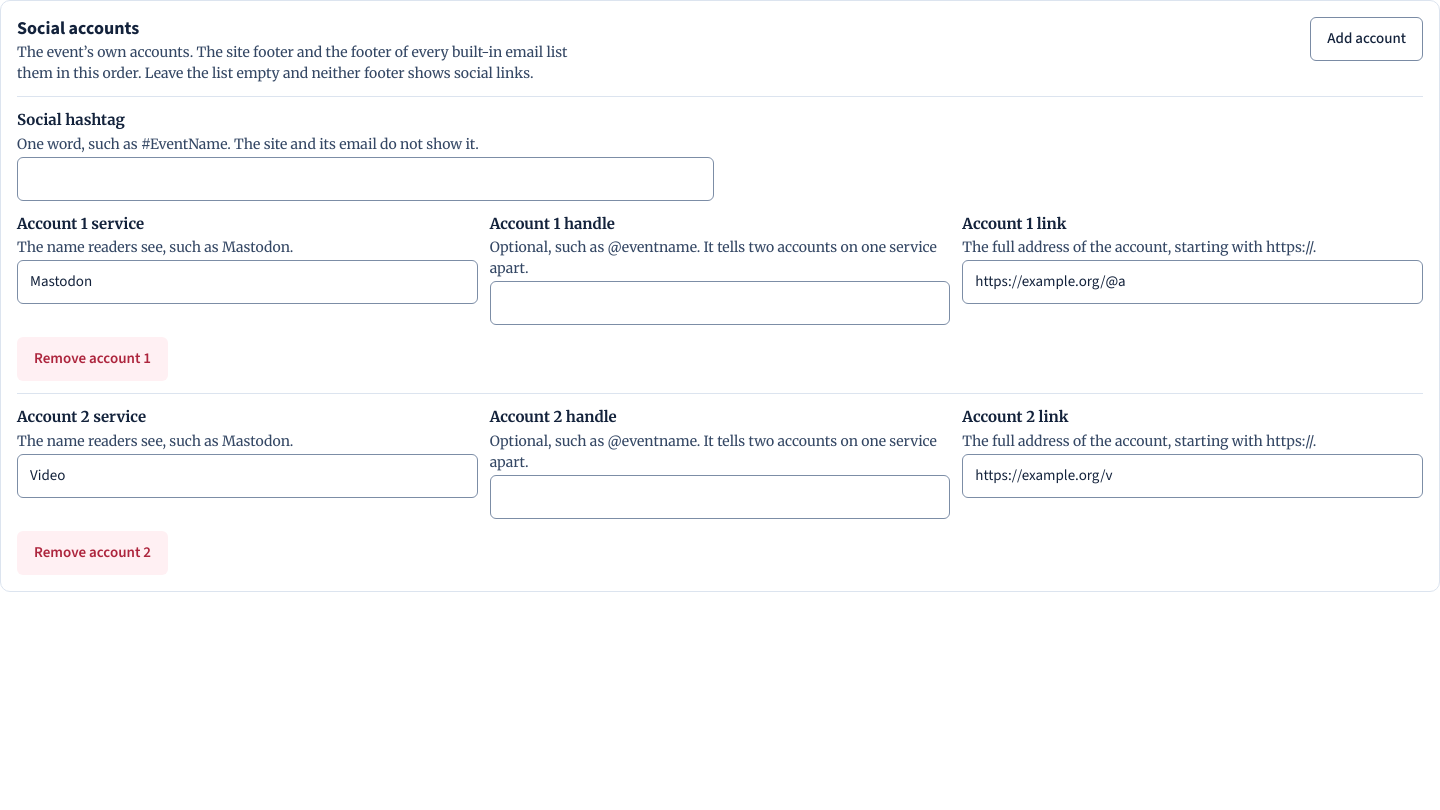
Test: SocialHandlesEditor › removes an account and moves focus to a control that still exists
The width and height of the screenshot is (1440, 810).
Click the button "Remove account 2" at [92, 553], box [17, 531, 168, 575]
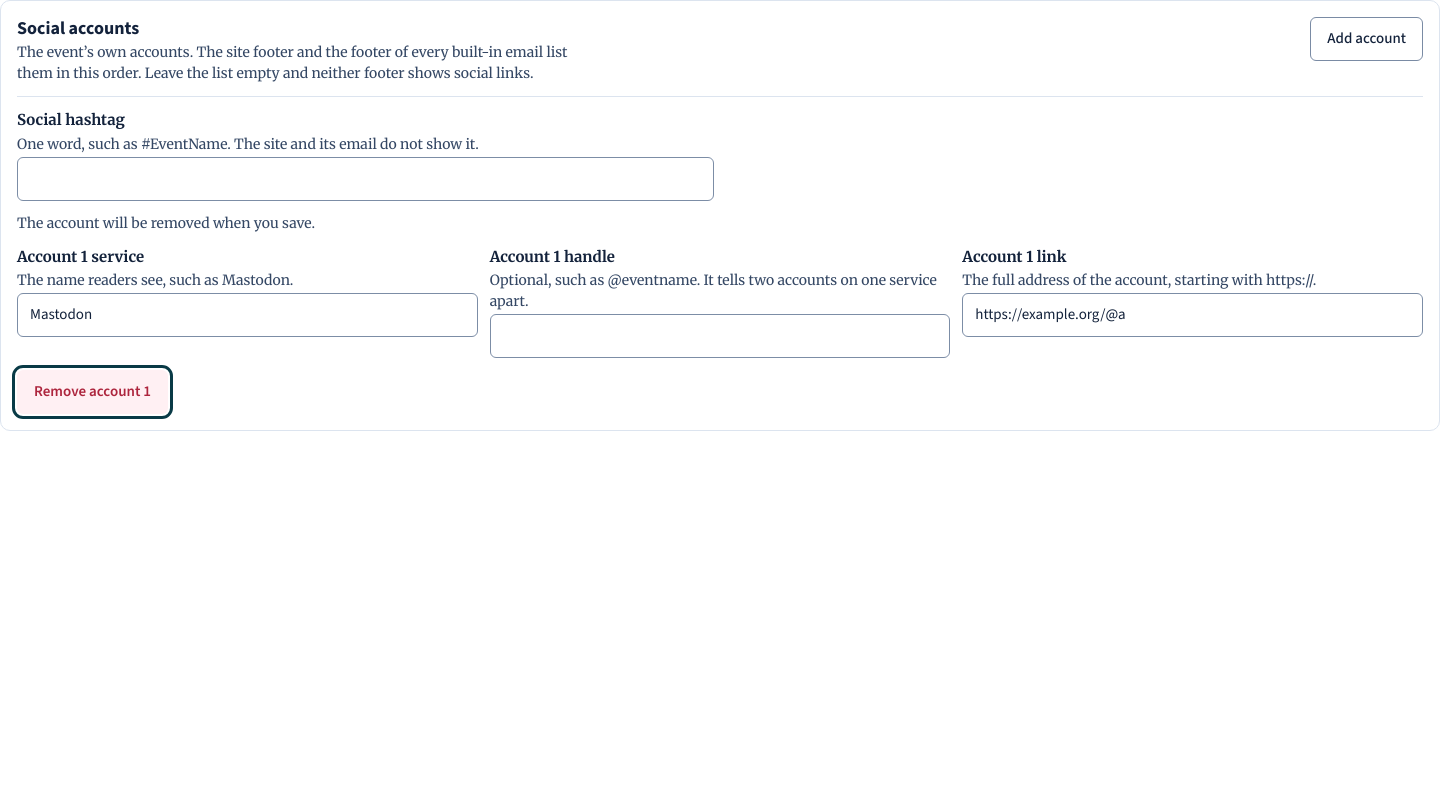
Expected: the message reads "The account will be removed when you save.", [17, 214, 315, 232]
Expected: the label labelled "Account 2 service" is gone
// The last one goes, and focus falls back to the add control.
Click the button "Remove account 1" at [92, 392], box [17, 370, 168, 414]
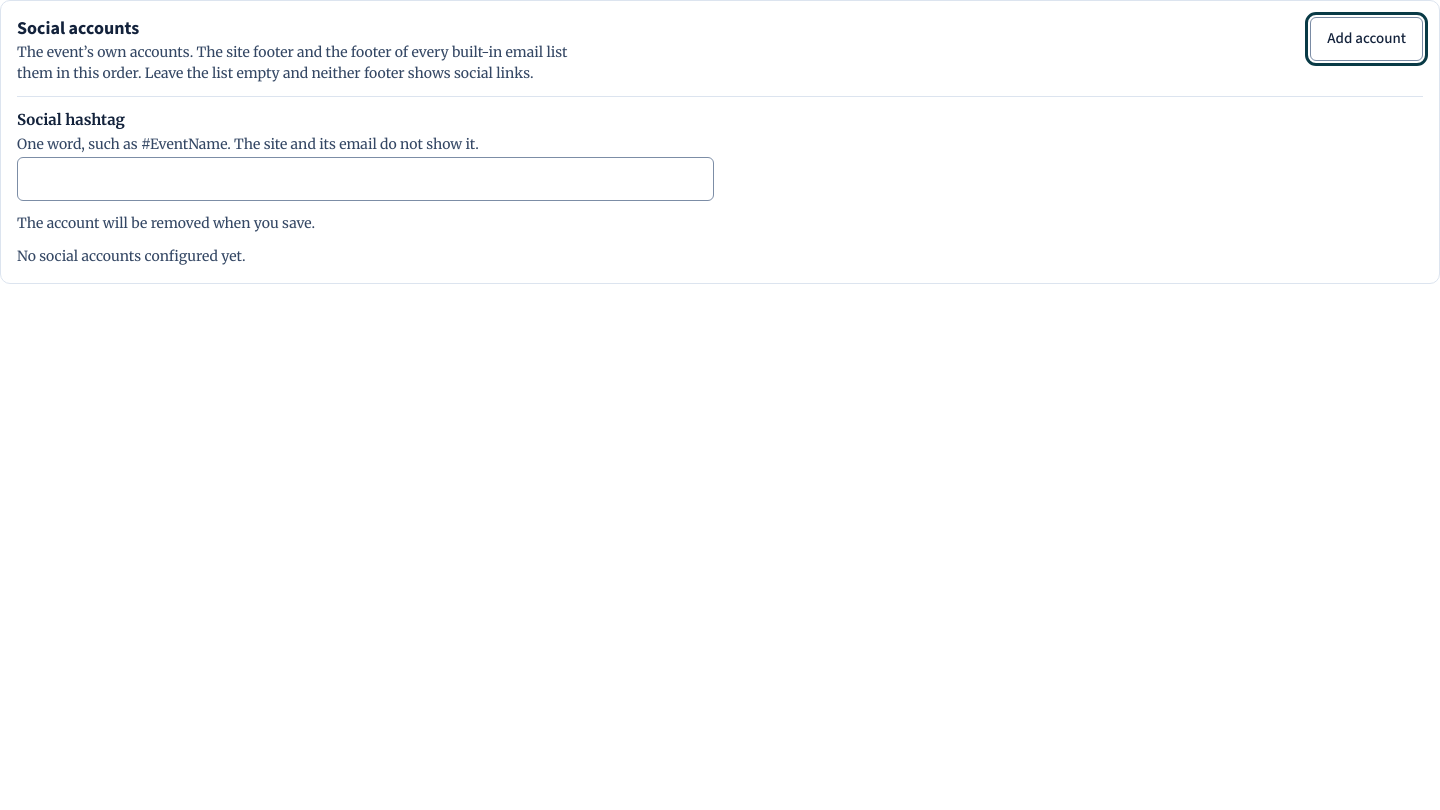
Expected: the text "No social accounts configured yet." is shown, [17, 247, 246, 265]
